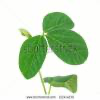Soyabean leaf: (44, 28, 89, 66), (17, 34, 48, 81), (42, 11, 75, 34)
